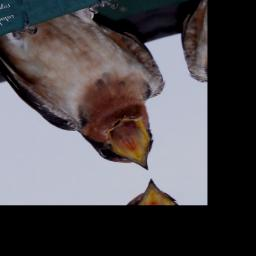Swallow: (0, 0, 194, 200)
